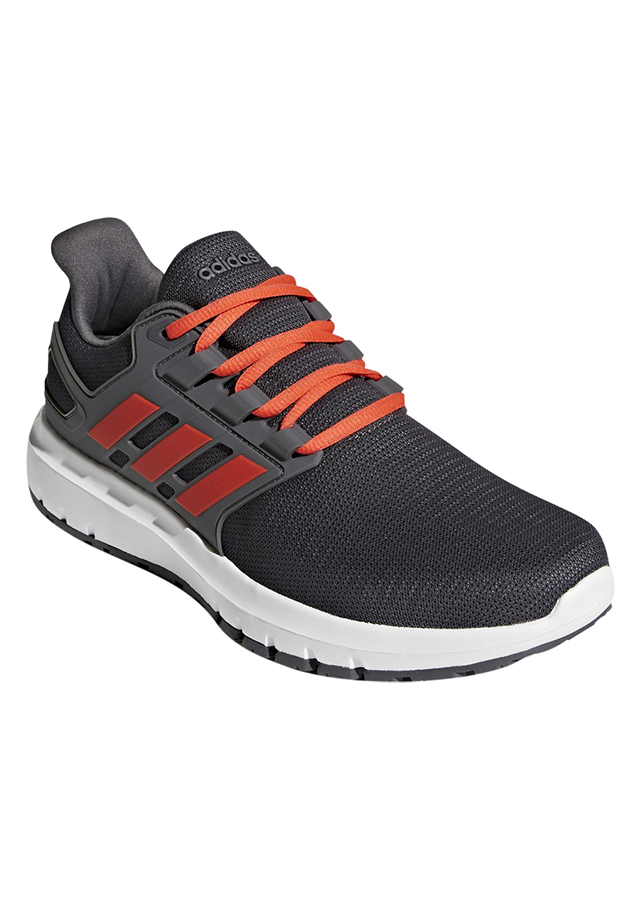Adidas: (189, 245, 267, 283)
